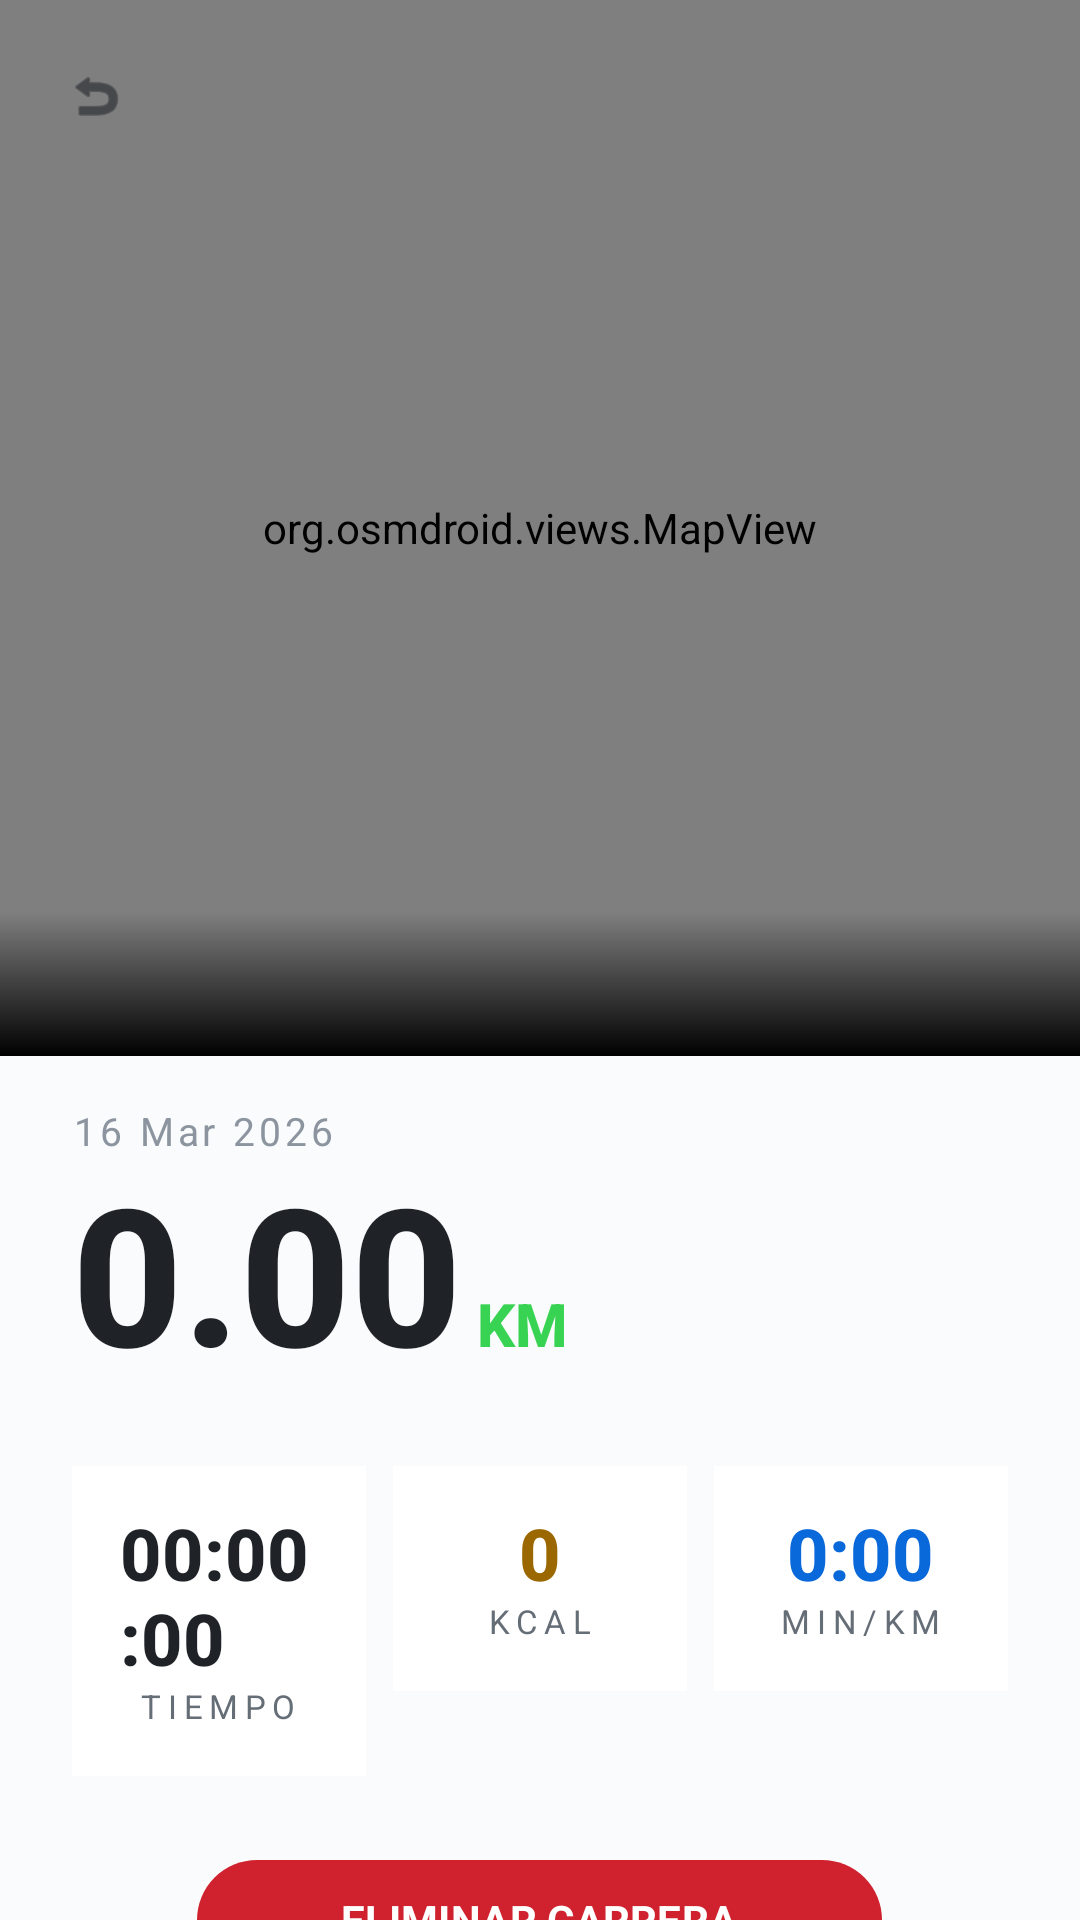

Icons on this 1080 × 1920 Android screen, each with its box as (x1,y1,x2,y2):
Volver: (75,77,118,116)
